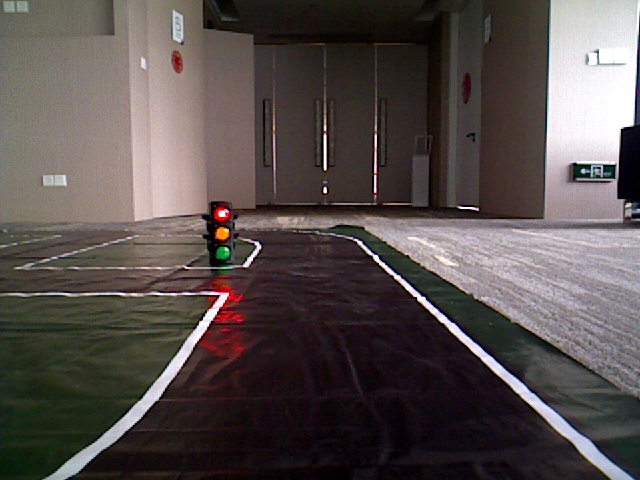red: (209, 205, 230, 258)
